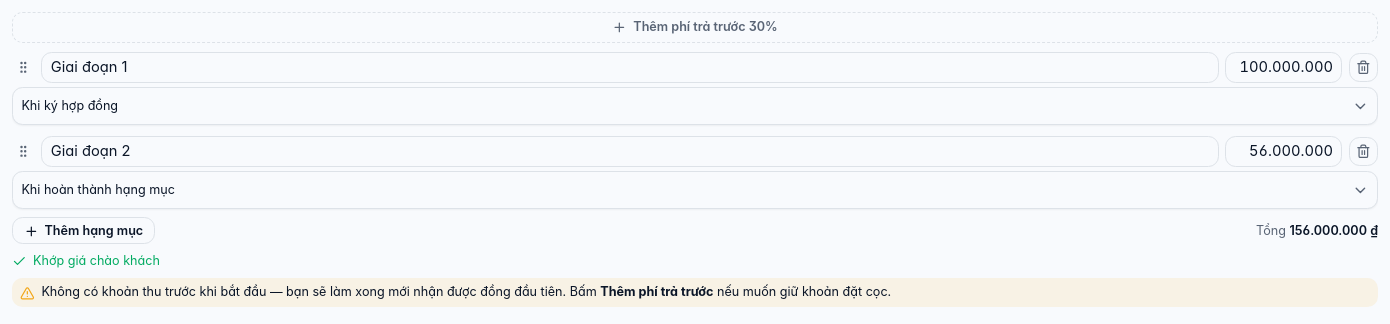
LineItemsEditor — thời điểm thu của hạng mục thường › báo giá CŨ đang để khi ký hợp đồng thì vẫn hiện, không âm thầm đổi
Click the dropdown named "Thời điểm thu hạng mục". click: coordinates (70, 105)
box: x1=12 y1=87 x2=1378 y2=125
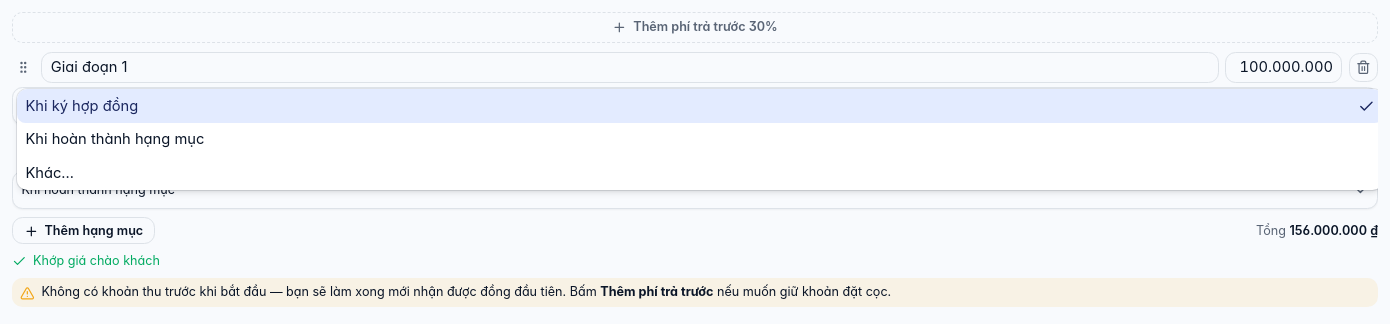
Press Escape
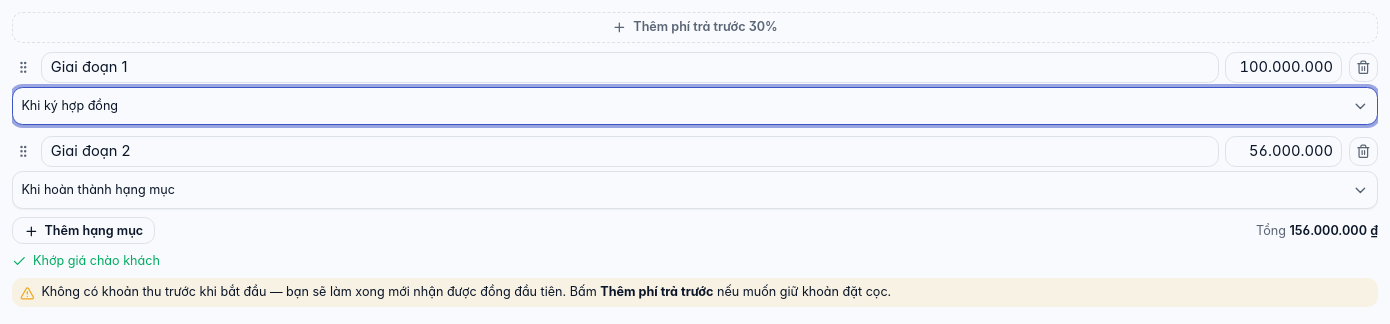
Check: the dropdown named "Thời điểm thu hạng mục" shows "Khi ký hợp đồng", box x1=12 y1=87 x2=1378 y2=125
Check: the list is gone
Click the dropdown named "Thời điểm thu hạng mục". click: coordinates (98, 189)
box: x1=12 y1=171 x2=1378 y2=209
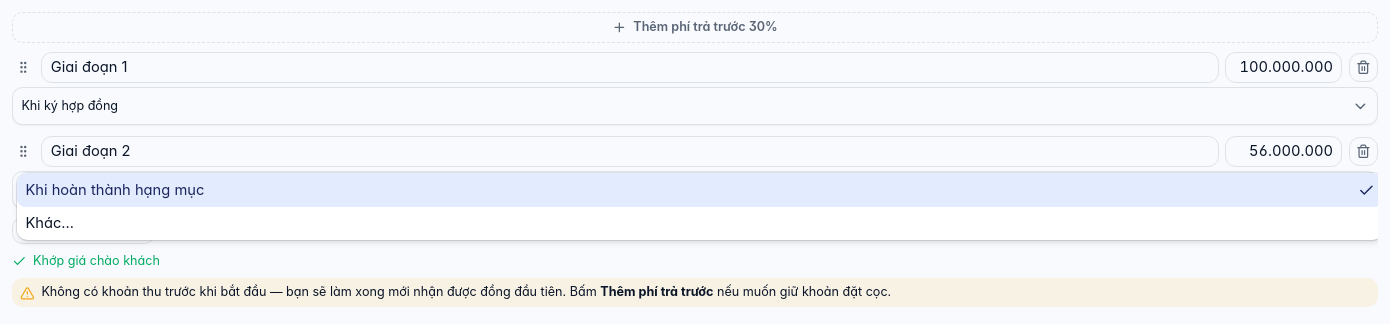
Press Escape
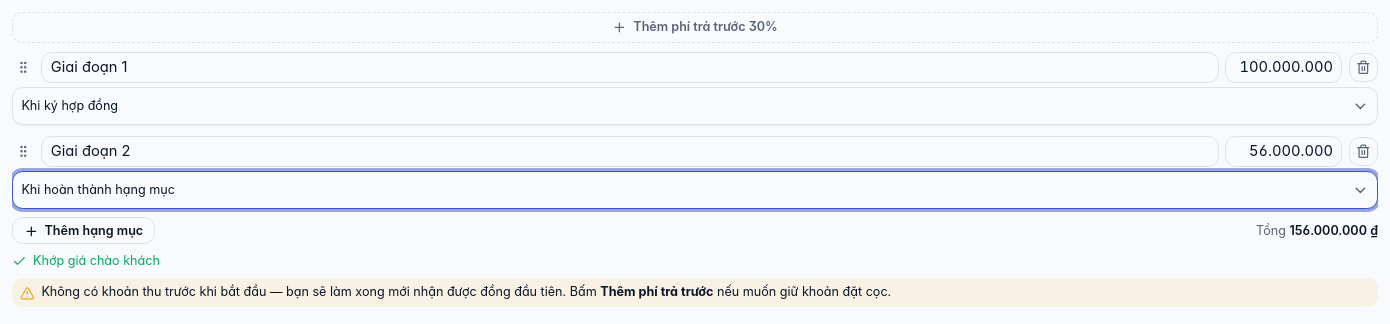
Check: the list is gone
